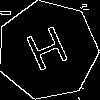H: (22, 25, 76, 81)
